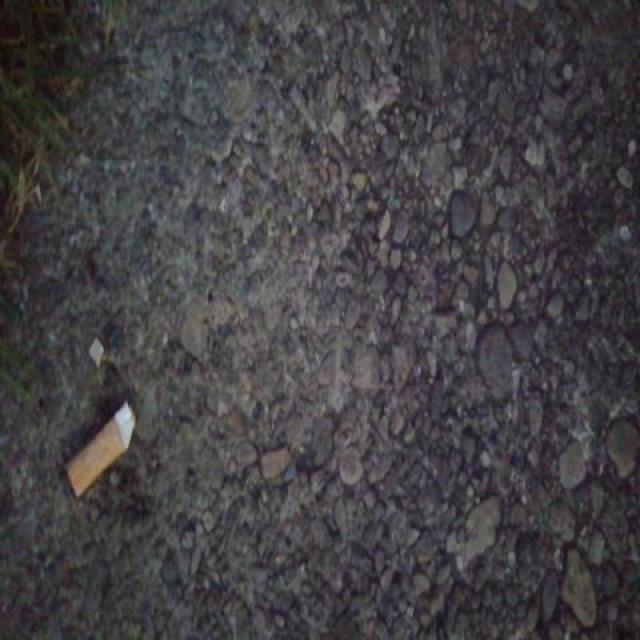non-organic waste: (60, 396, 137, 508)
